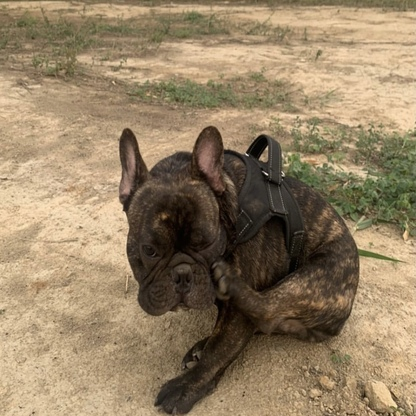bulldog: (117, 122, 357, 416)
